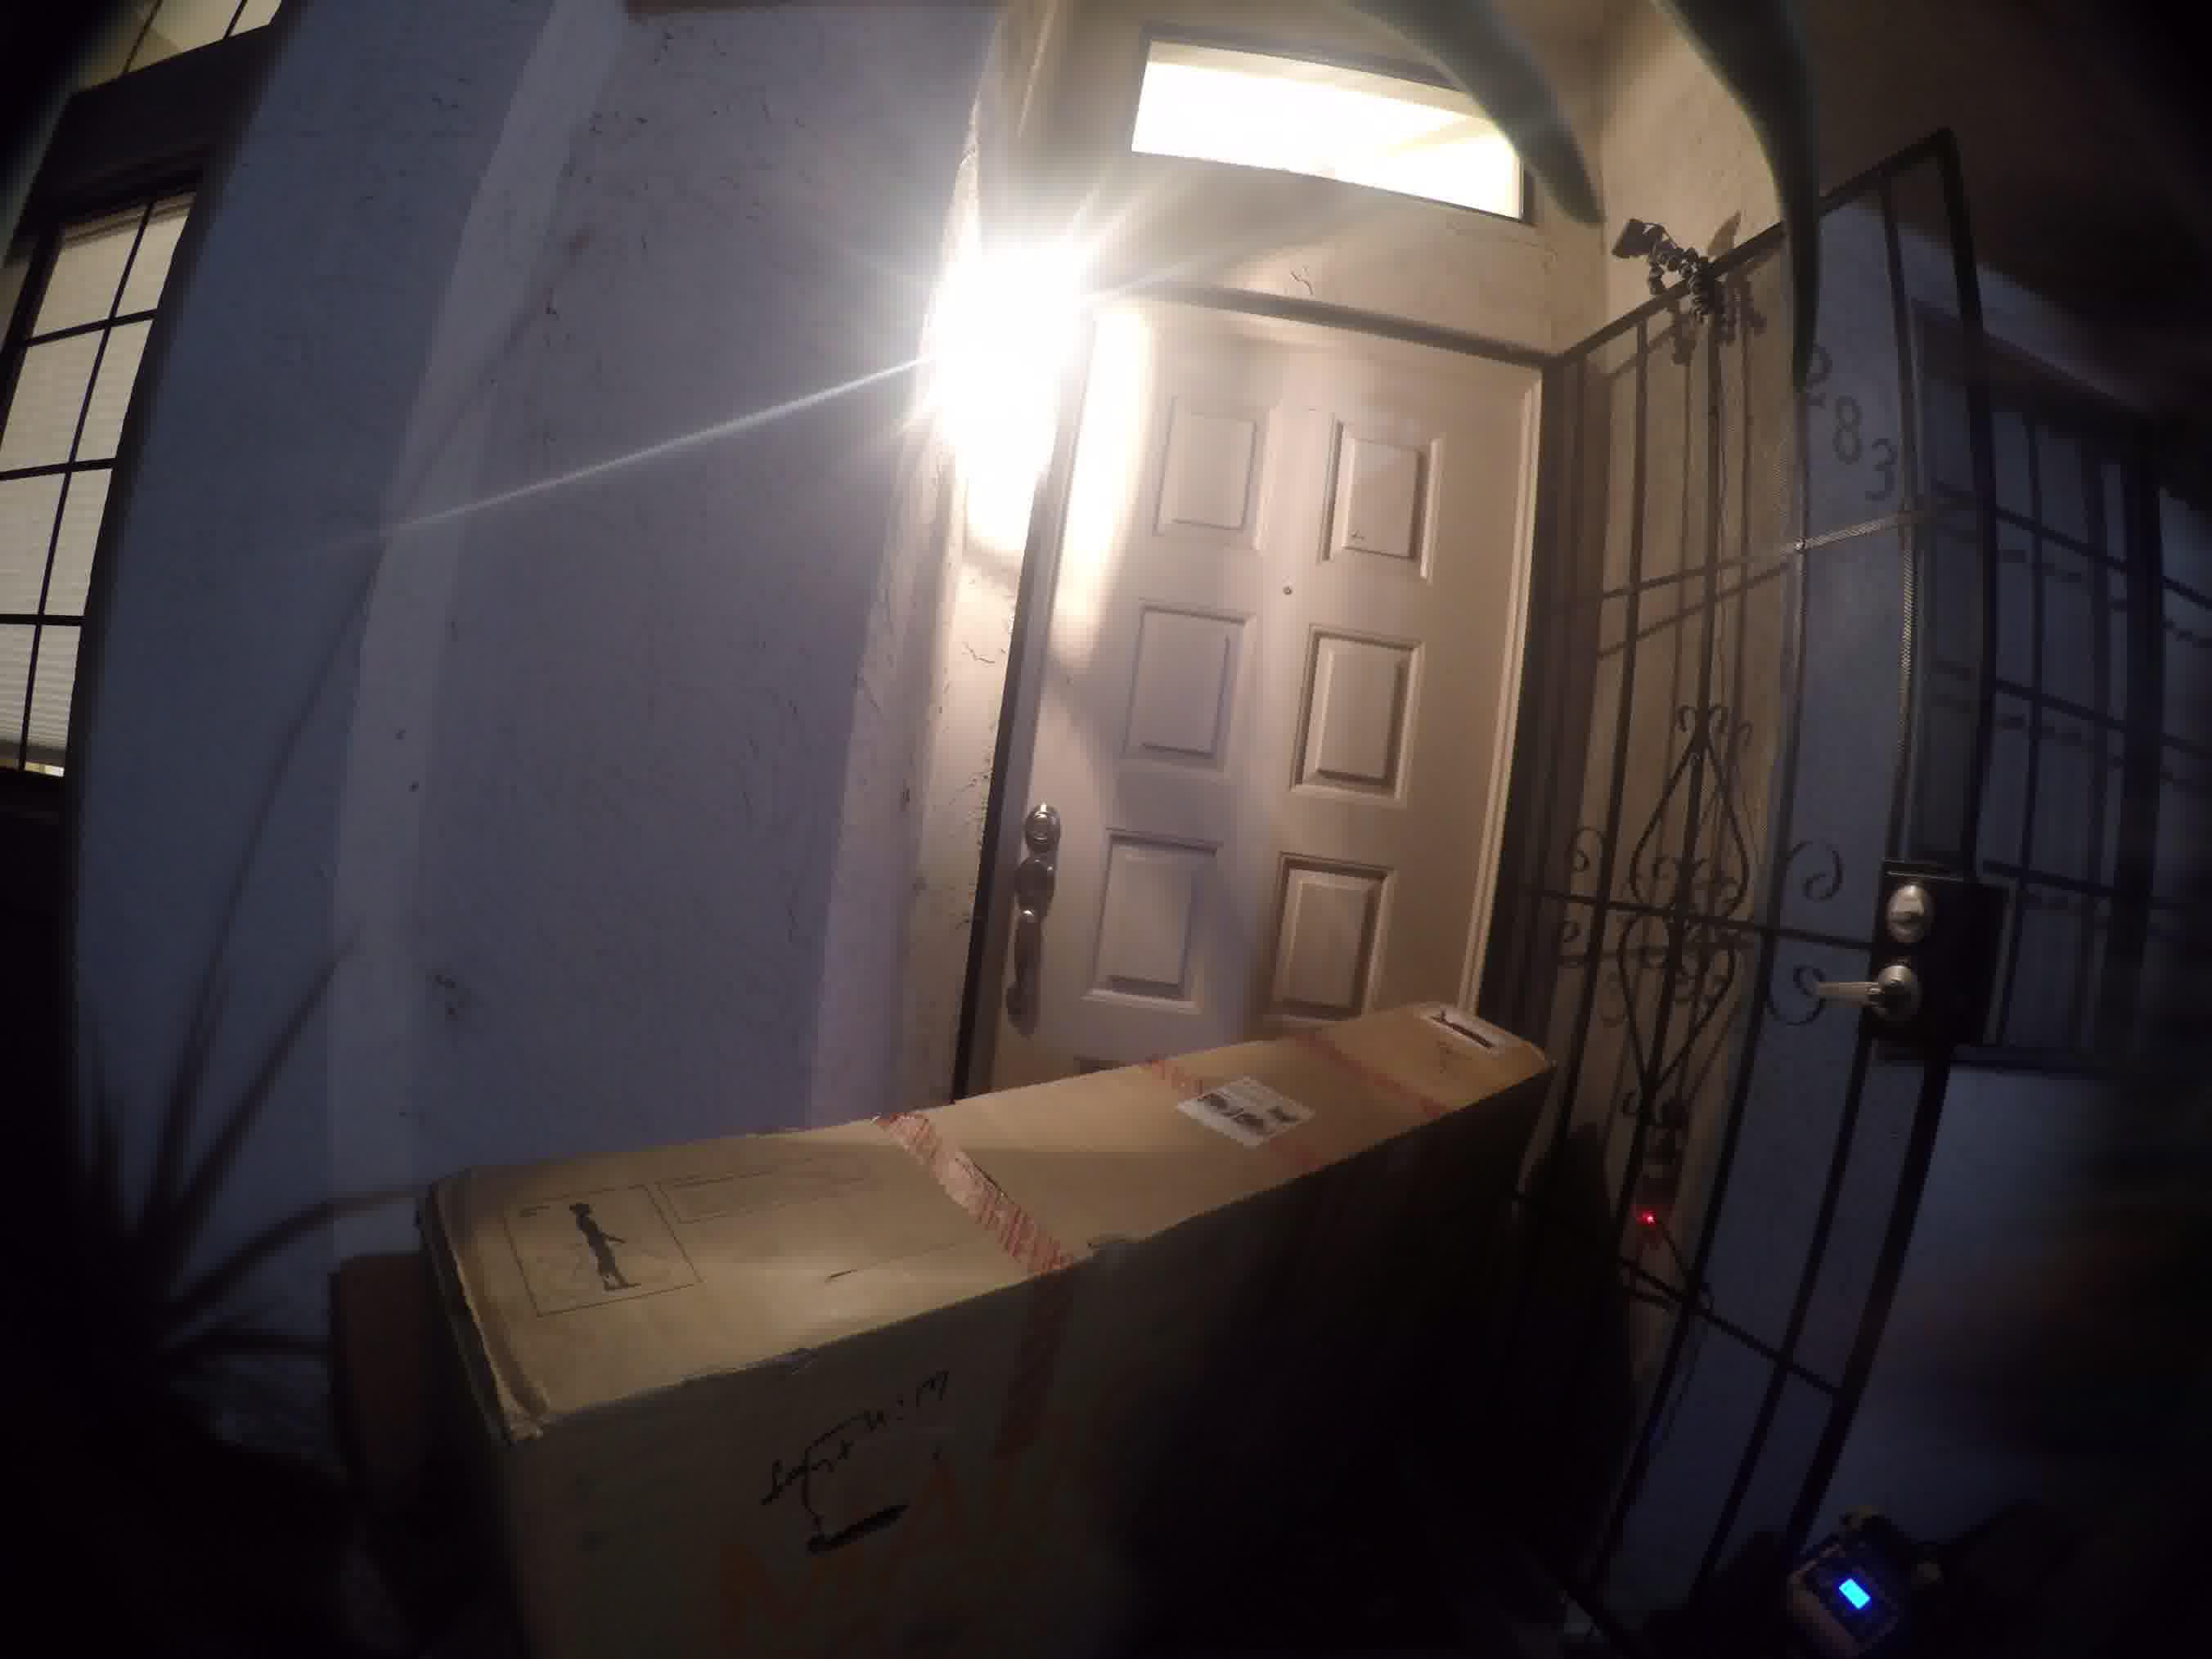box: (404, 955, 1587, 1619)
